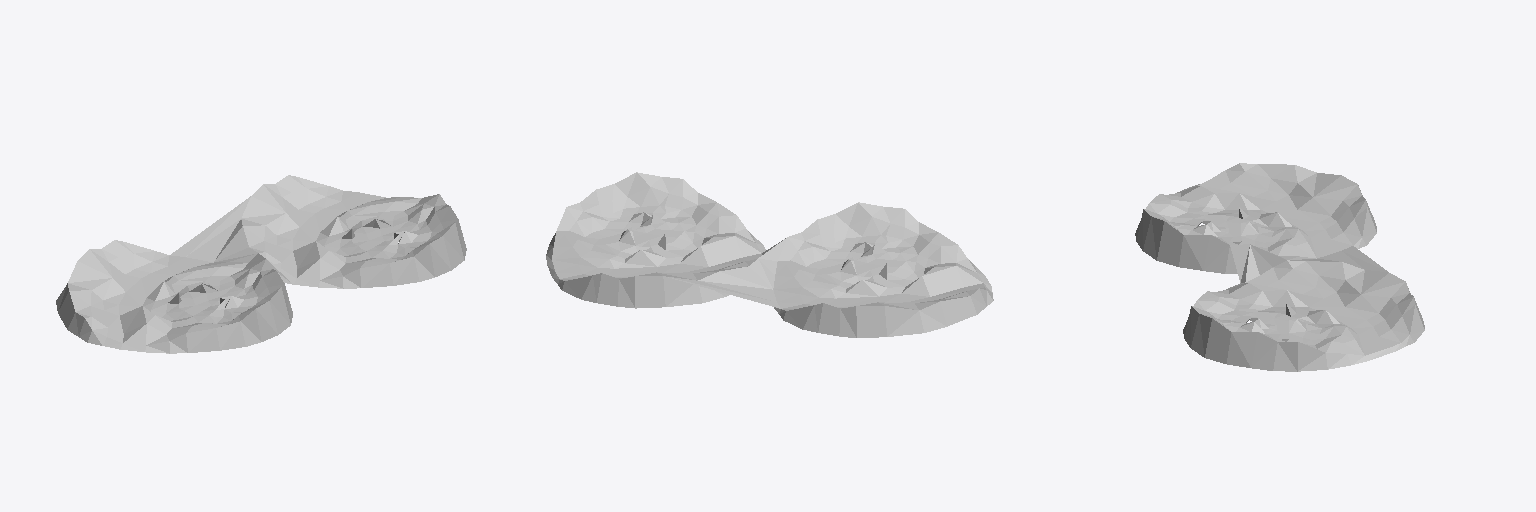
The model's file is SOL.obj.
3 views of the same model, side by side, from view 1: azimuth 30°, elevation 25°; view 2: azimuth 150°, elevation 25°; view 3: azimuth 270°, elevation 25° (orthographic).
Visible parts, largest first — view 1: ground_0; view 2: ground_0; view 3: ground_0.
Part boxes in pixels (left/top/right/bottom): ground_0: left=56, top=175, right=466, bottom=353; ground_0: left=546, top=172, right=993, bottom=337; ground_0: left=1135, top=163, right=1424, bottom=371.
Size of the model in its own units: 86.26 by 8.01 by 54.4.